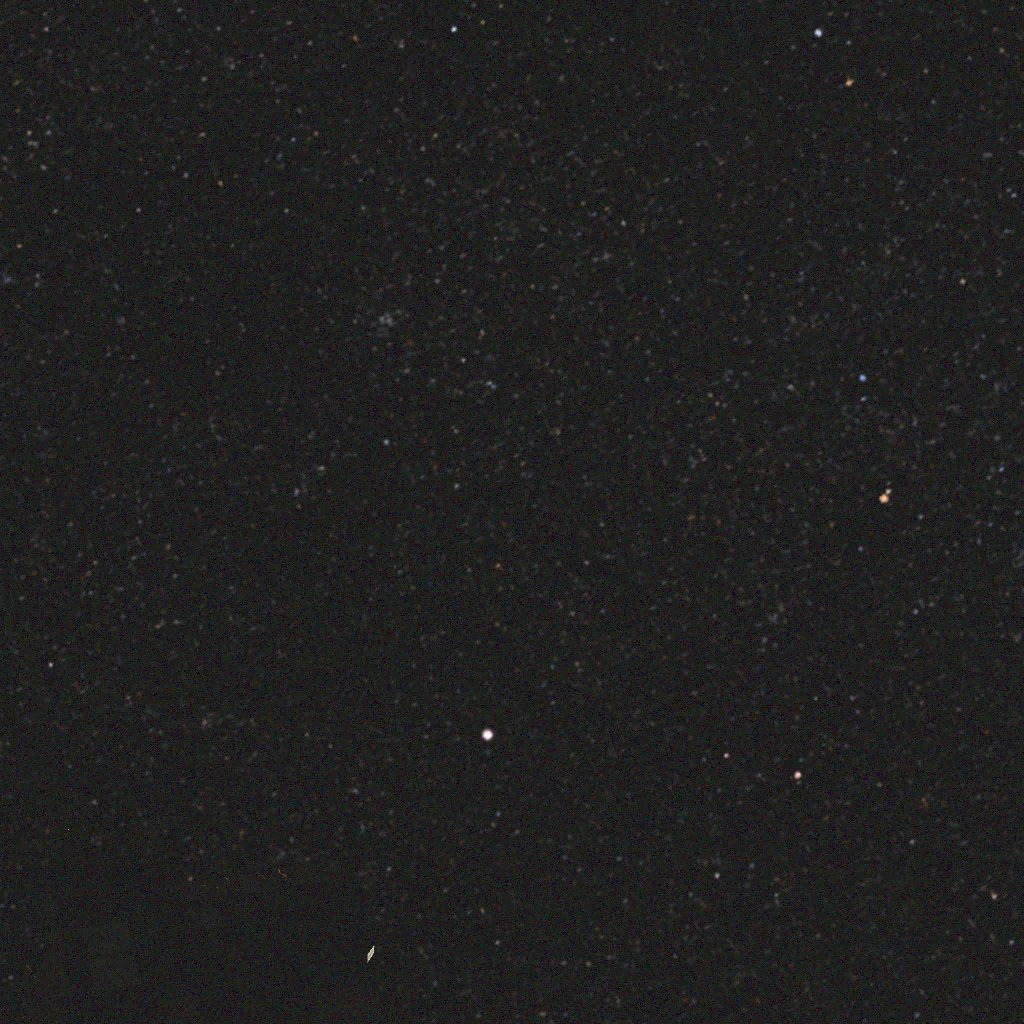soho: (0, 631, 379, 1024)
